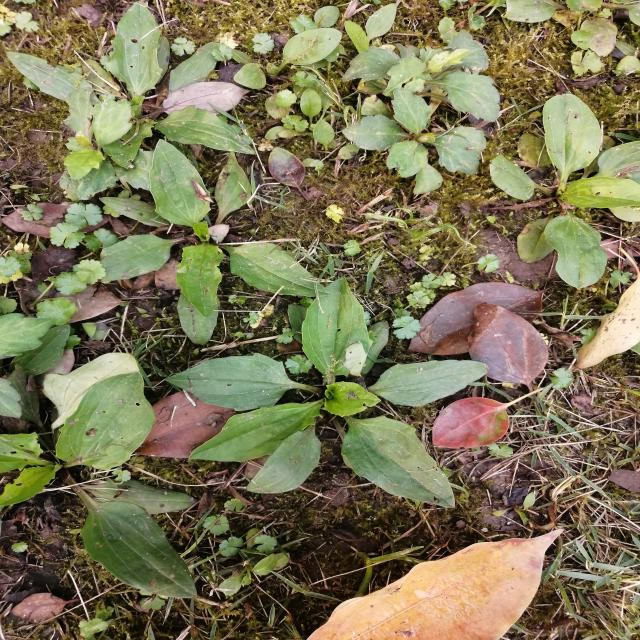plantain: (176, 301, 460, 510), (0, 386, 232, 595), (98, 140, 312, 320)
